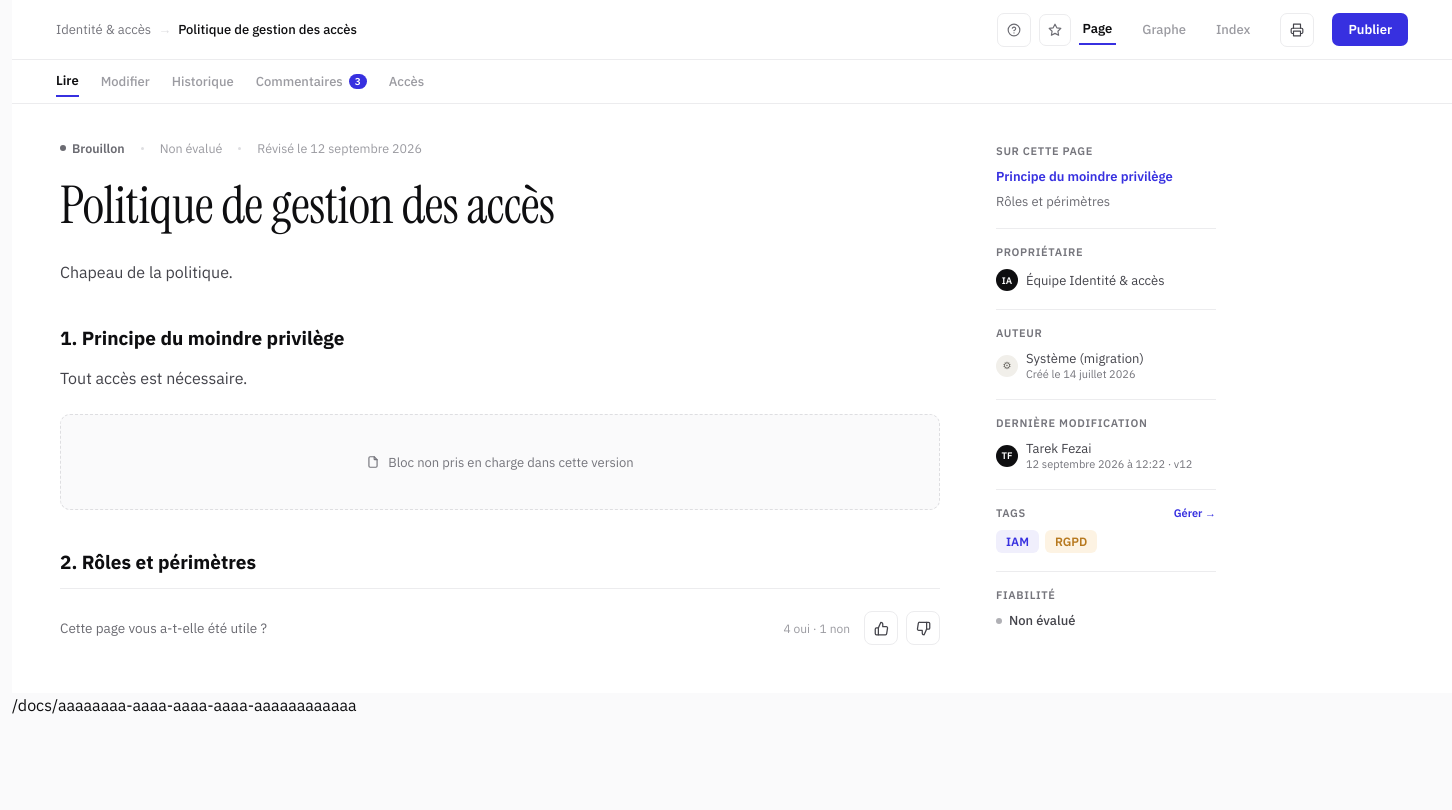
DocumentReadPage — permissions › Publier envoie POST approvals
The width and height of the screenshot is (1452, 810).
Click the button with test id "doc-publish" at point(1370, 30), box [1332,13,1408,46]
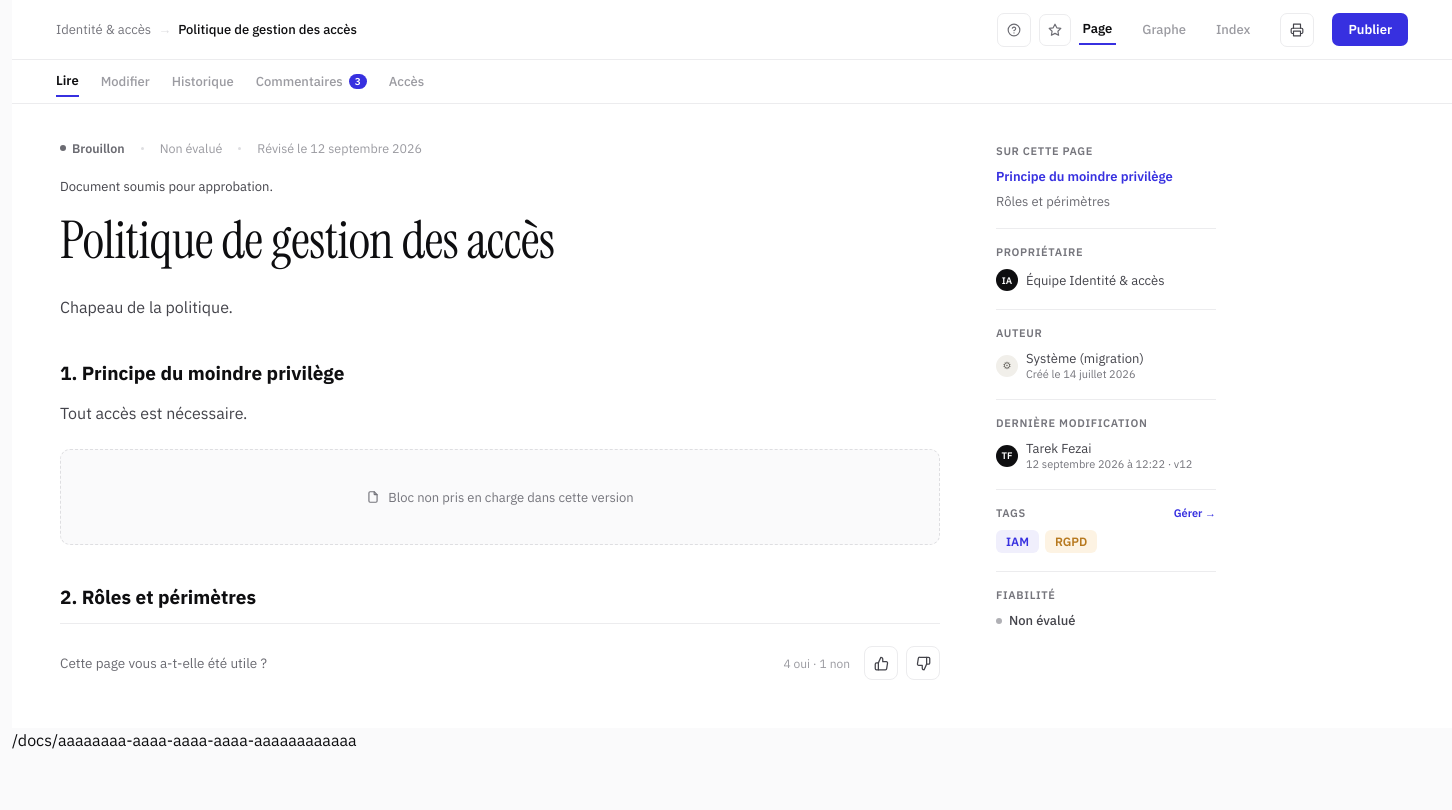
Expected: the message "Document soumis pour approbation." is shown, [60,178,273,195]
